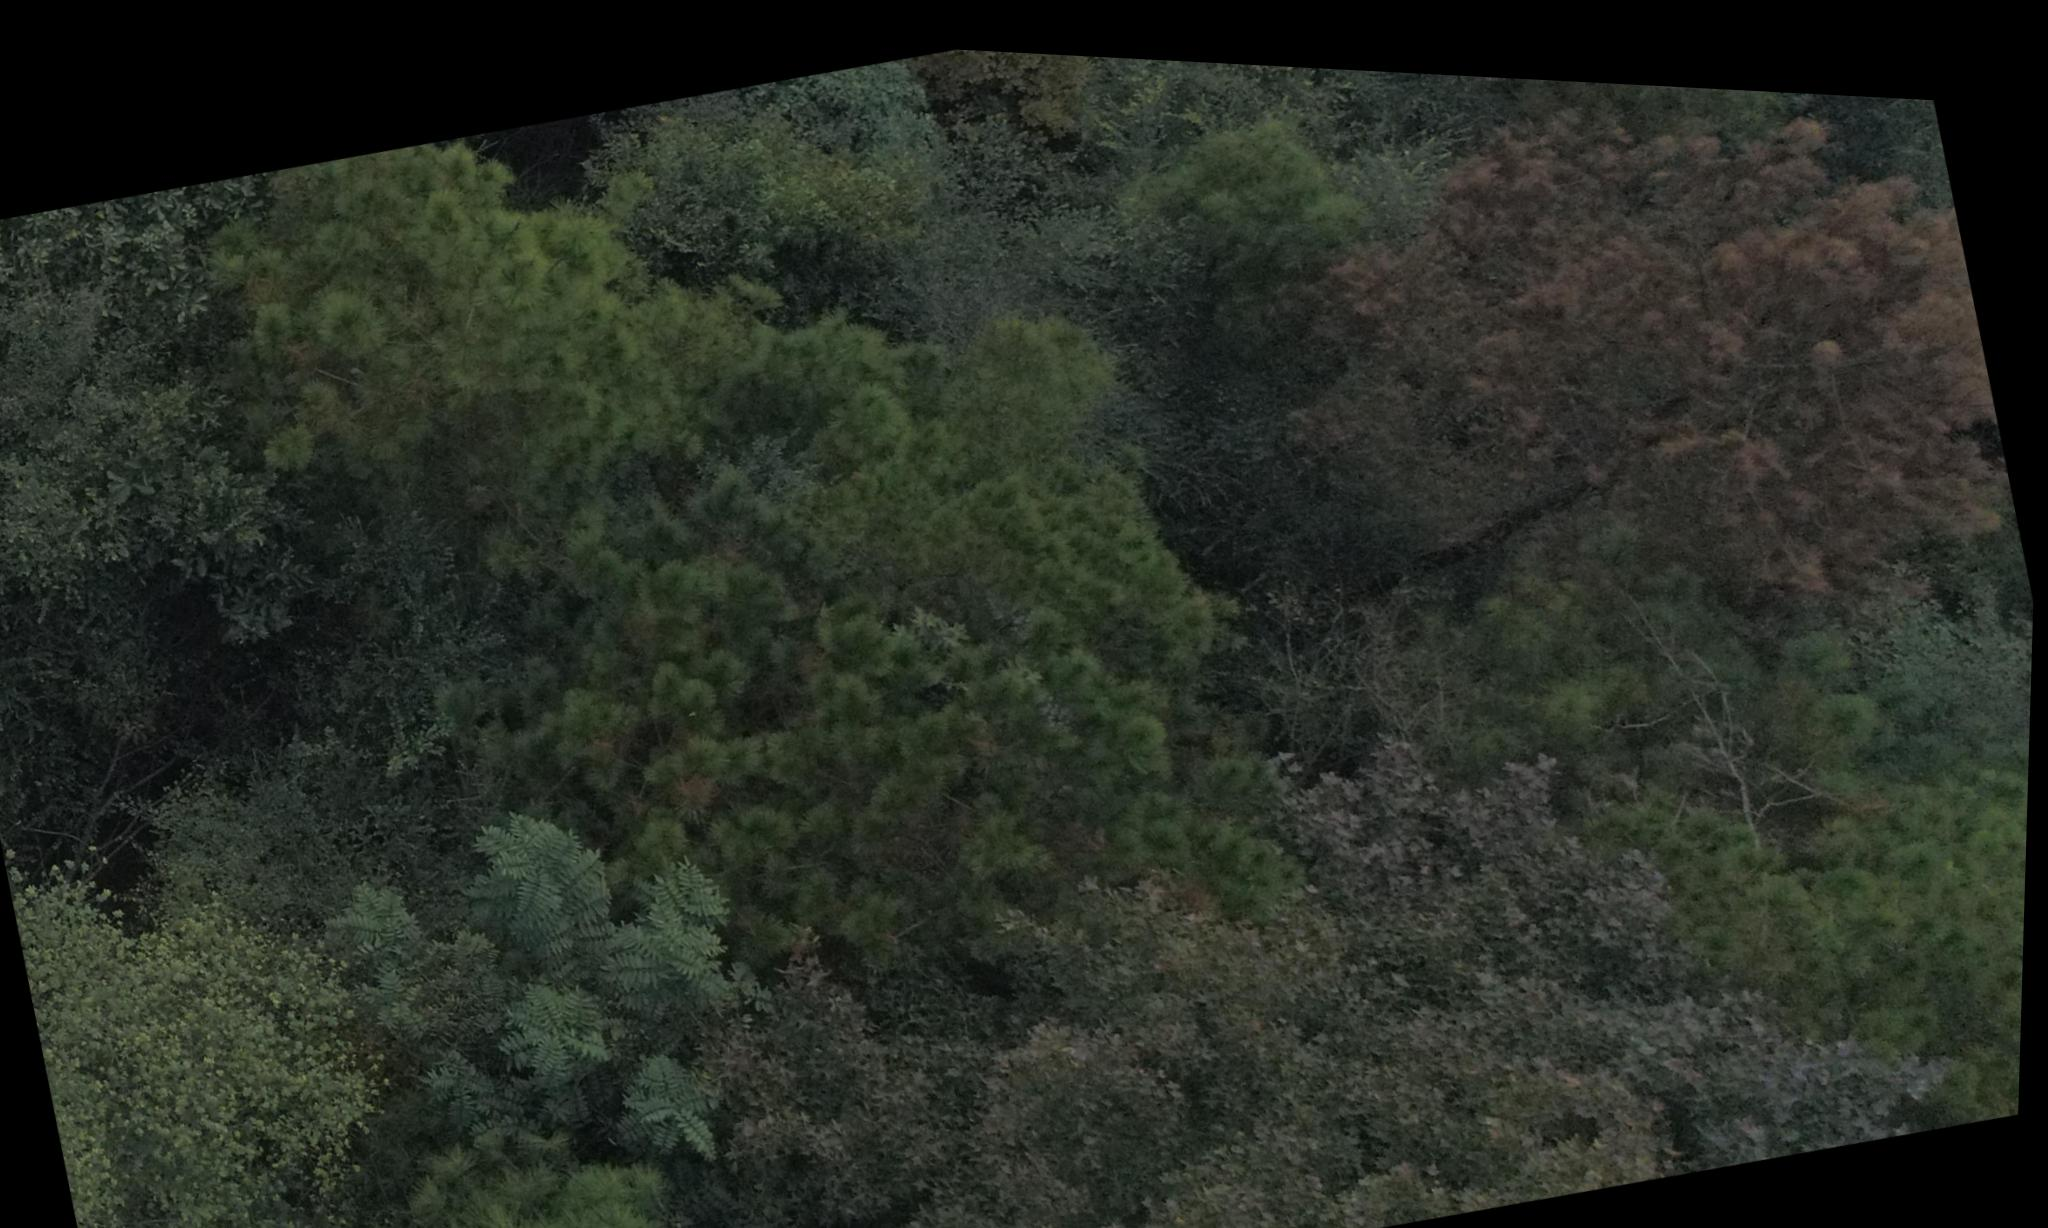heavy: (1298, 54, 2033, 659)
